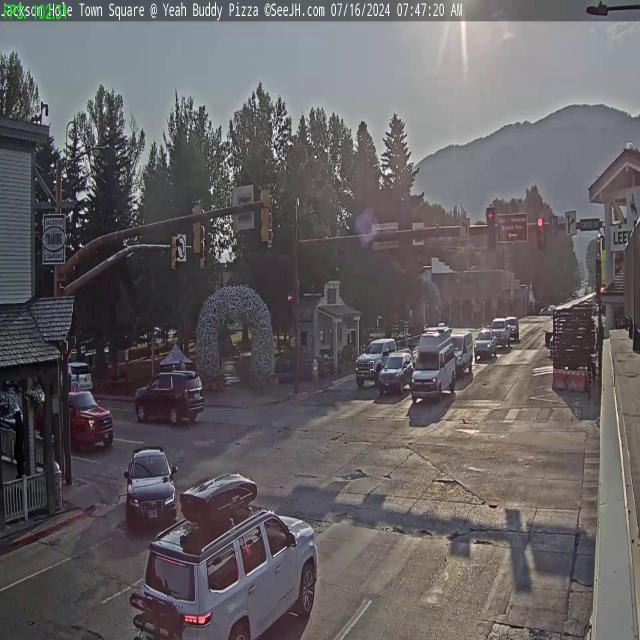pickup: (38, 391, 114, 455), (357, 342, 384, 392), (492, 319, 512, 348)
sedan: (124, 443, 178, 528)
suv: (138, 492, 321, 640), (134, 367, 206, 429), (379, 352, 414, 394), (66, 362, 93, 389), (475, 330, 497, 360), (506, 317, 520, 340)
traffic light: (259, 184, 273, 244), (191, 199, 204, 257), (488, 207, 496, 250), (170, 234, 178, 272), (536, 216, 544, 249), (200, 234, 207, 270)
truck: (412, 329, 456, 401), (452, 331, 473, 377)
